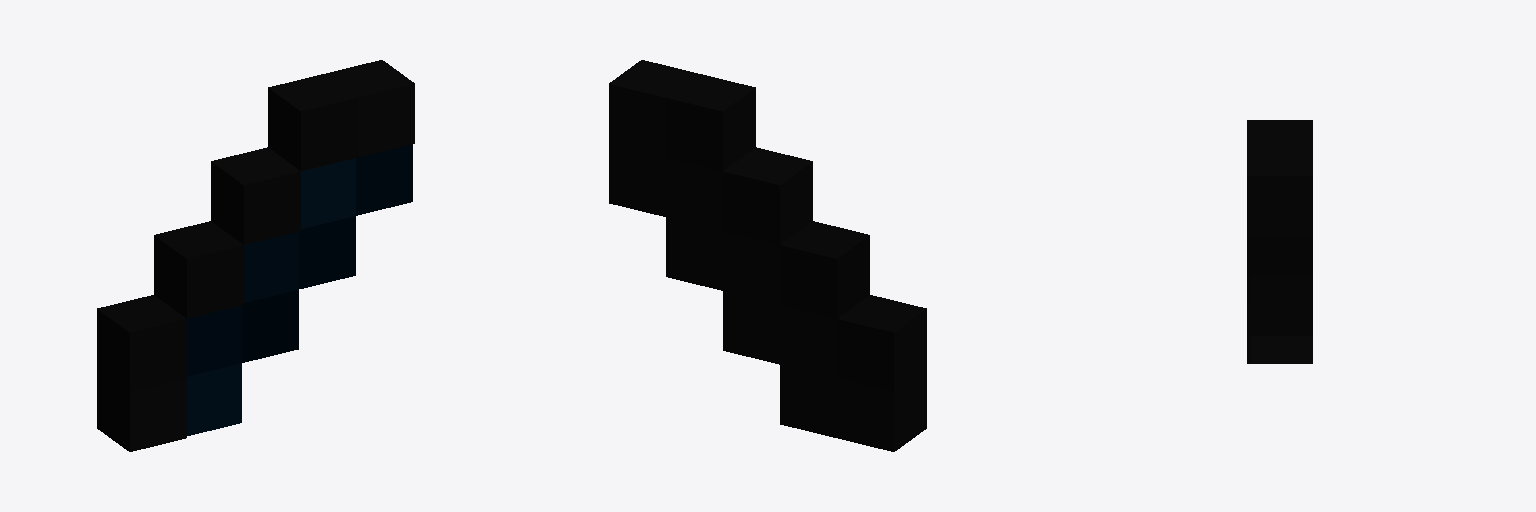
Rendered from display.obj.
The picture shows the model from 3 angles: view 1: azimuth 30°, elevation 25°; view 2: azimuth 150°, elevation 25°; view 3: azimuth 270°, elevation 25°; orthographic projection.
Visible parts, largest first — view 1: Display_Cube.008; view 2: Display_Cube.008; view 3: Display_Cube.008.
Boxes of the visible parts, x1,y1,x2,y2 form: Display_Cube.008: [97, 60, 414, 451]; Display_Cube.008: [609, 60, 926, 451]; Display_Cube.008: [1247, 120, 1312, 363].
Bounding box in the file's own units: 5 × 5 × 1.